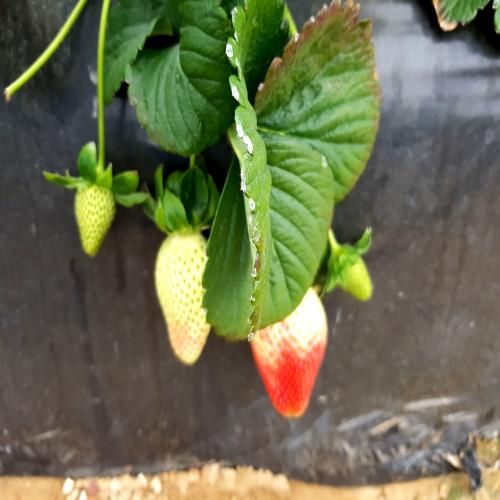partially-ripe: (249, 258, 338, 433)
